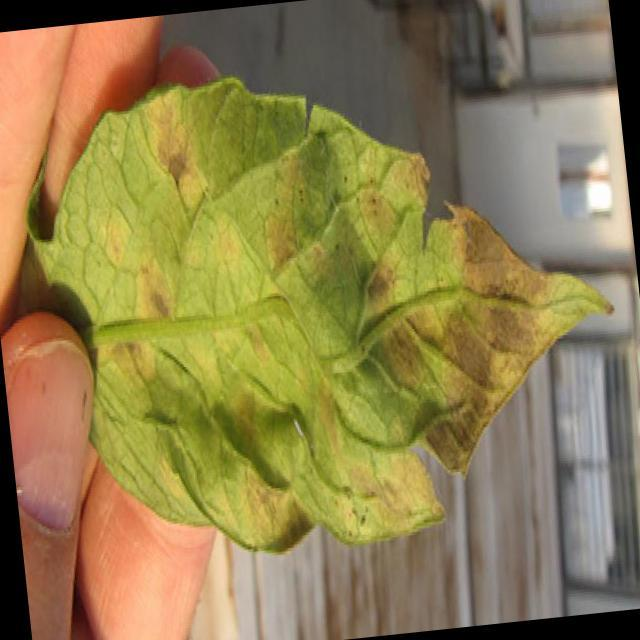Leaf Mold: (35, 9, 639, 586)
